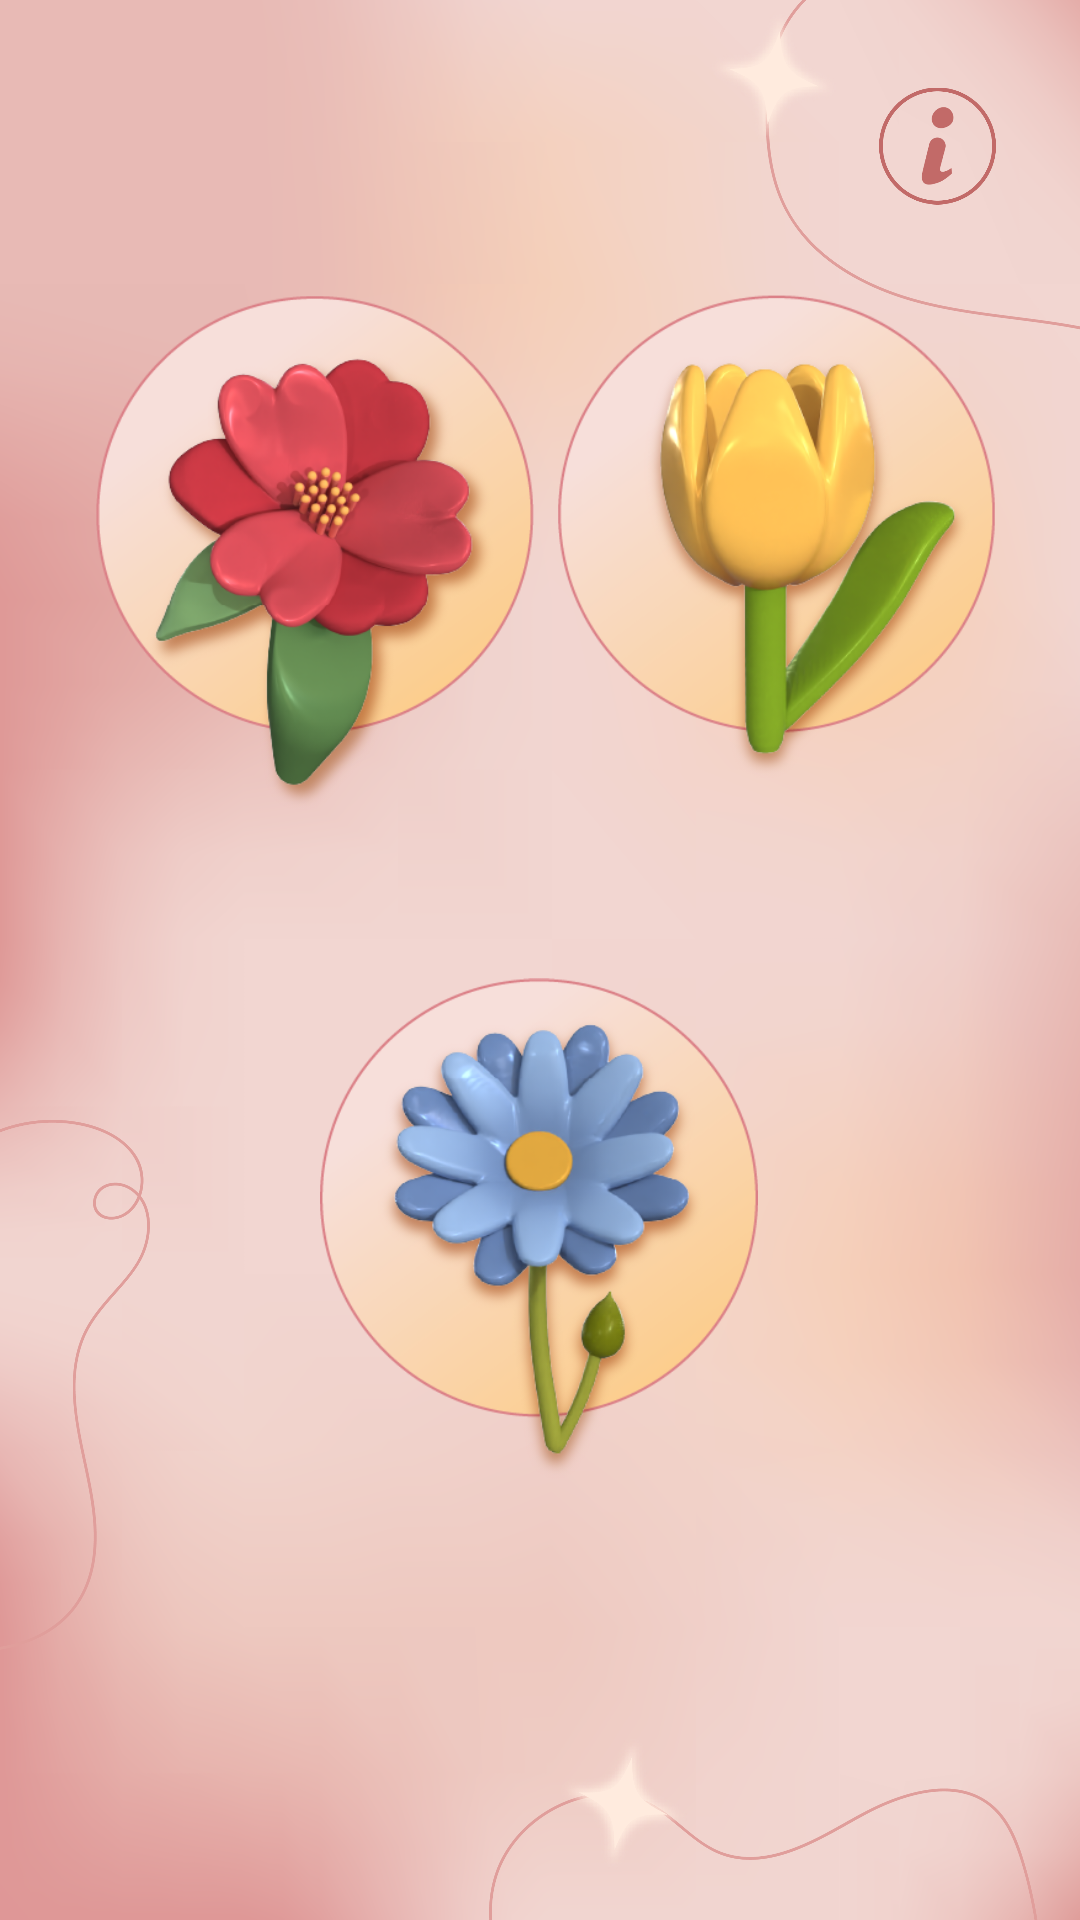

Named icons in this screenshot (1080×1920) and their centers, (x=x, y=y):
instruc darkicon: (x=937, y=146)
